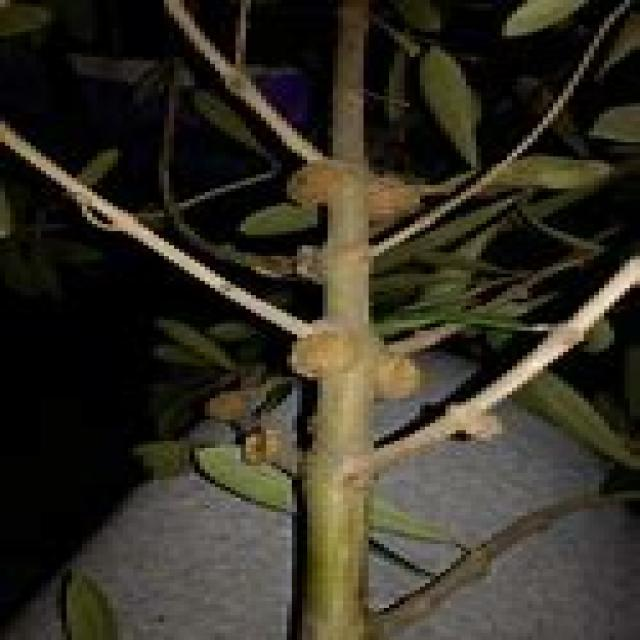Tuberculosis: (286, 320, 354, 377), (363, 174, 425, 223), (374, 345, 420, 398), (287, 164, 343, 202)
